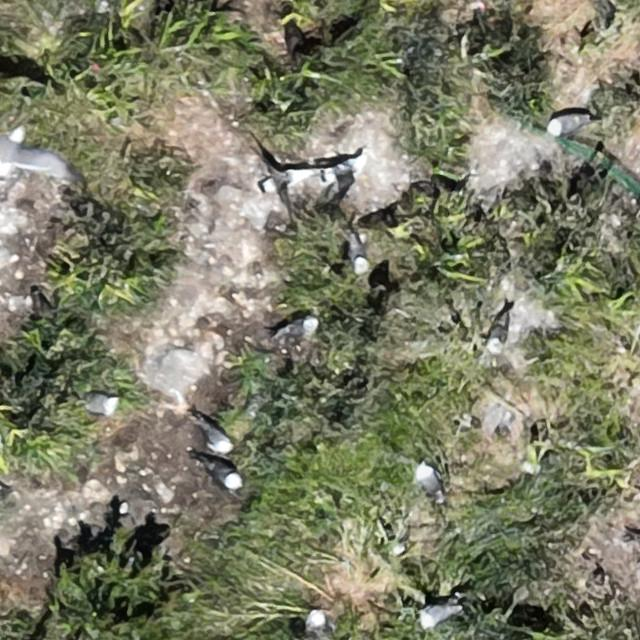F: (1, 123, 73, 181)
umineko: (346, 228, 370, 274), (490, 308, 514, 354), (208, 463, 242, 489), (205, 425, 232, 453), (421, 604, 455, 626), (280, 318, 317, 338), (548, 114, 584, 134), (416, 464, 438, 496), (84, 396, 116, 416)
